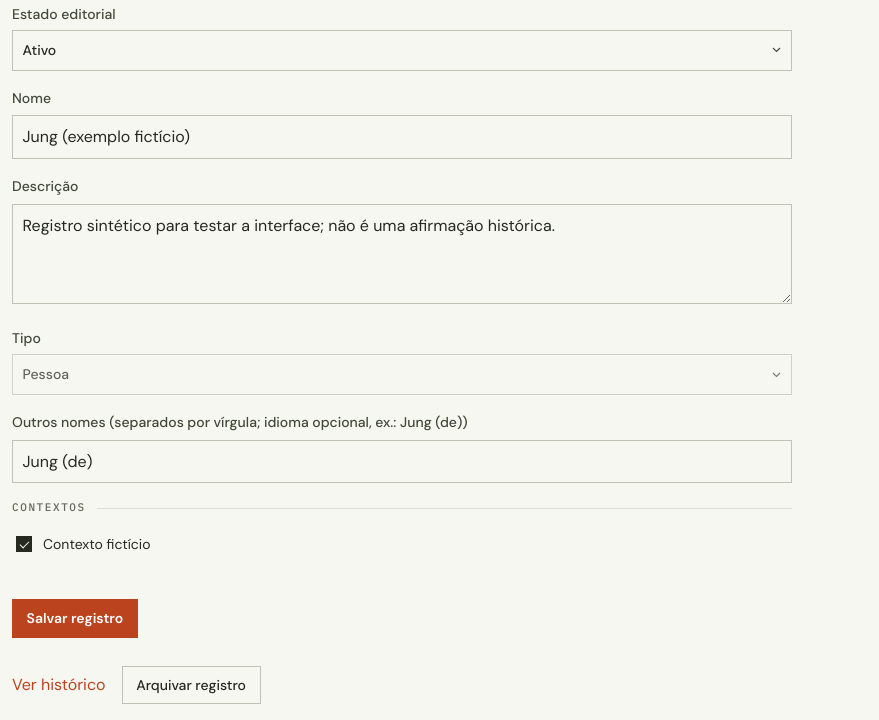
Test: EntityEditor — roteamento › mostra erro comum de salvamento sem abrir o painel de conflito
(page scrolled)
Click the button "Salvar registro" at (75, 618), box [12,599,138,638]
(page scrolled)
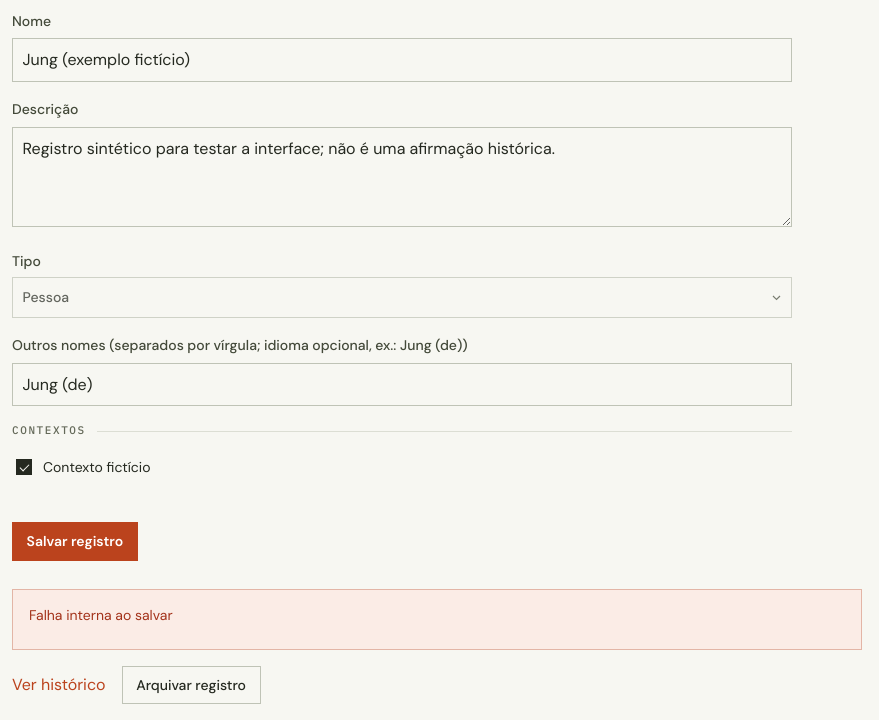
Now the message reads "Falha interna ao salvar", box [29,606,173,624]
